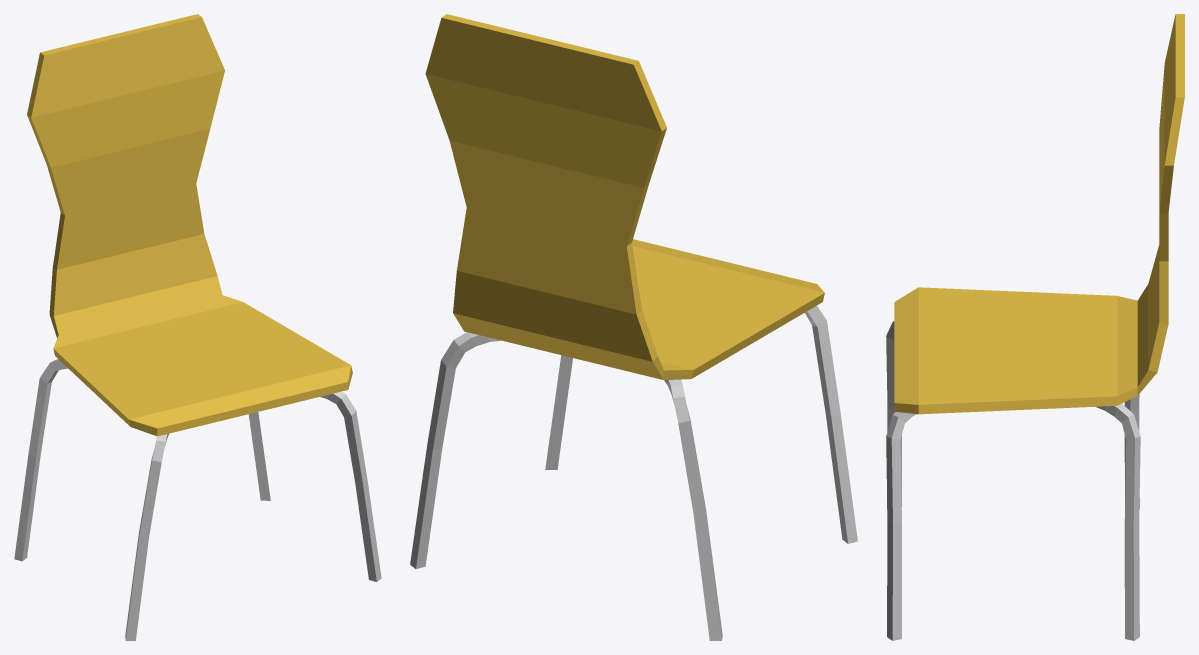
Rendered from Chair Asset.fbx.
The picture shows the model from 3 angles, left to right: view 1: azimuth 30°, elevation 25°; view 2: azimuth 150°, elevation 25°; view 3: azimuth 270°, elevation 25°; orthographic projection. The views are drawn at different scales.
Visible parts, largest first — view 1: Chair A; view 2: Chair A; view 3: Chair A.
Boxes of the visible parts, x1,y1,x2,y2 form: Chair A: [14, 14, 381, 640]; Chair A: [410, 14, 857, 640]; Chair A: [886, 14, 1184, 640].
Size of the model in its own units: 65.97 by 118 by 61.54.
